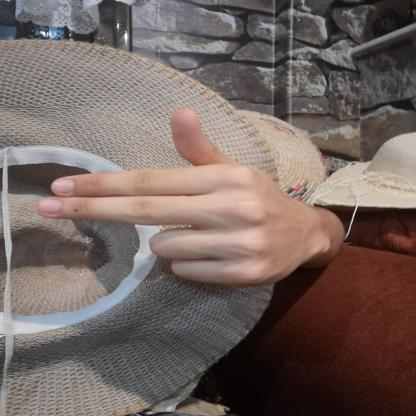GHAYN: (19, 94, 335, 296)
